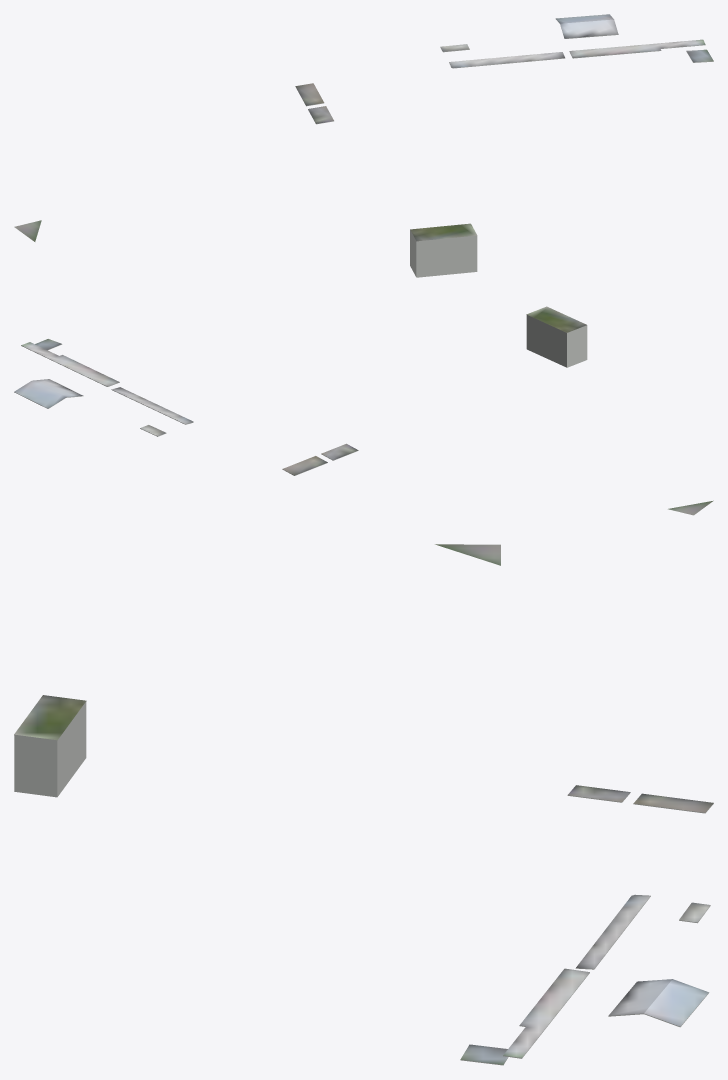
Rendered from LSME_1_1.glb.
The picture shows the model from 3 angles, top to bottom: view 1: azimuth 30°, elevation 25°; view 2: azimuth 150°, elevation 25°; view 3: azimuth 270°, elevation 25°; orthographic projection. The views are drawn at different scales.
Parts seen in each view (by area): view 1: building_0307abd85b9ec301, building_f5d05f38ba789ad3, building_5b1cea5741636f12; view 2: building_0307abd85b9ec301, building_f5d05f38ba789ad3, building_5b1cea5741636f12; view 3: building_0307abd85b9ec301, building_f5d05f38ba789ad3, building_5b1cea5741636f12.
Boxes of the visible parts, left/top/right/bottom form: building_0307abd85b9ec301: left=295, top=14, right=713, bottom=124; building_f5d05f38ba789ad3: left=410, top=230, right=477, bottom=277; building_5b1cea5741636f12: left=410, top=223, right=477, bottom=241; building_0307abd85b9ec301: left=14, top=339, right=358, bottom=475; building_f5d05f38ba789ad3: left=526, top=315, right=587, bottom=367; building_5b1cea5741636f12: left=526, top=306, right=587, bottom=333; building_0307abd85b9ec301: left=460, top=785, right=713, bottom=1065; building_f5d05f38ba789ad3: left=14, top=702, right=86, bottom=797; building_5b1cea5741636f12: left=14, top=695, right=86, bottom=740.
Bounding box in the file's own units: 325 × 16.29 × 180.
3 materials, 2 textured.
